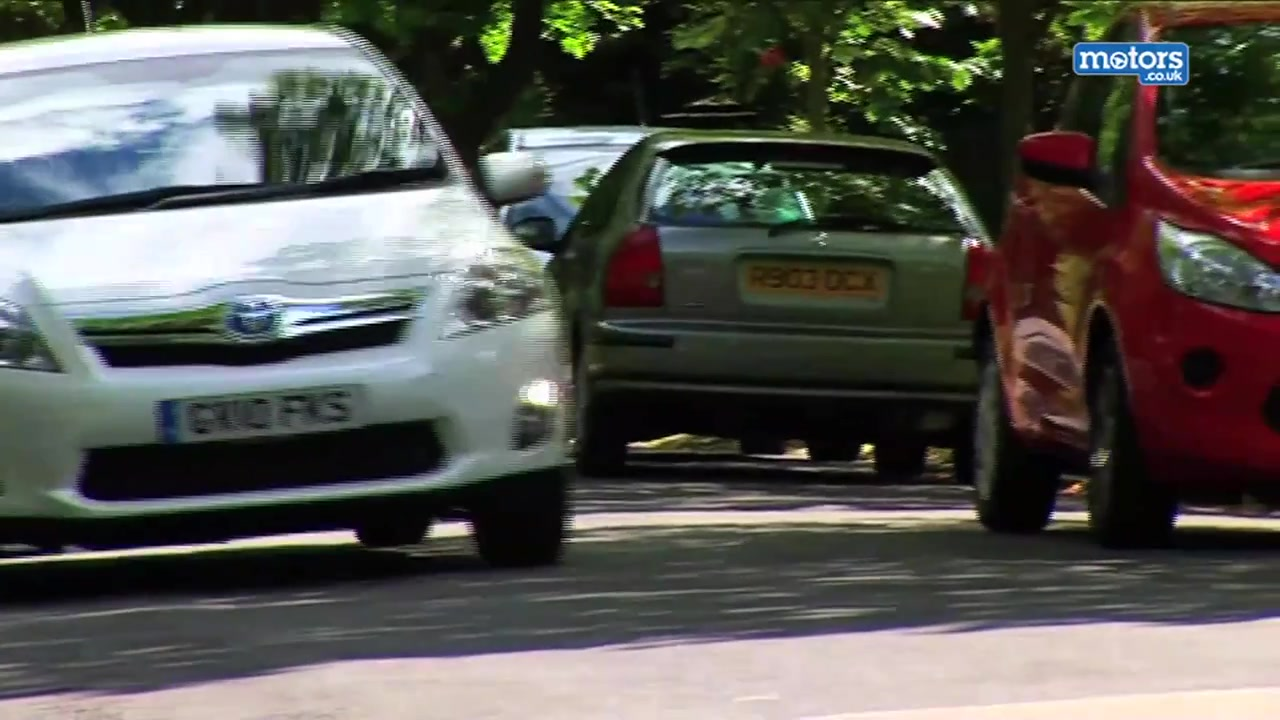car: (2, 15, 573, 573), (959, 1, 1280, 542), (543, 119, 1005, 481), (471, 116, 824, 299)
